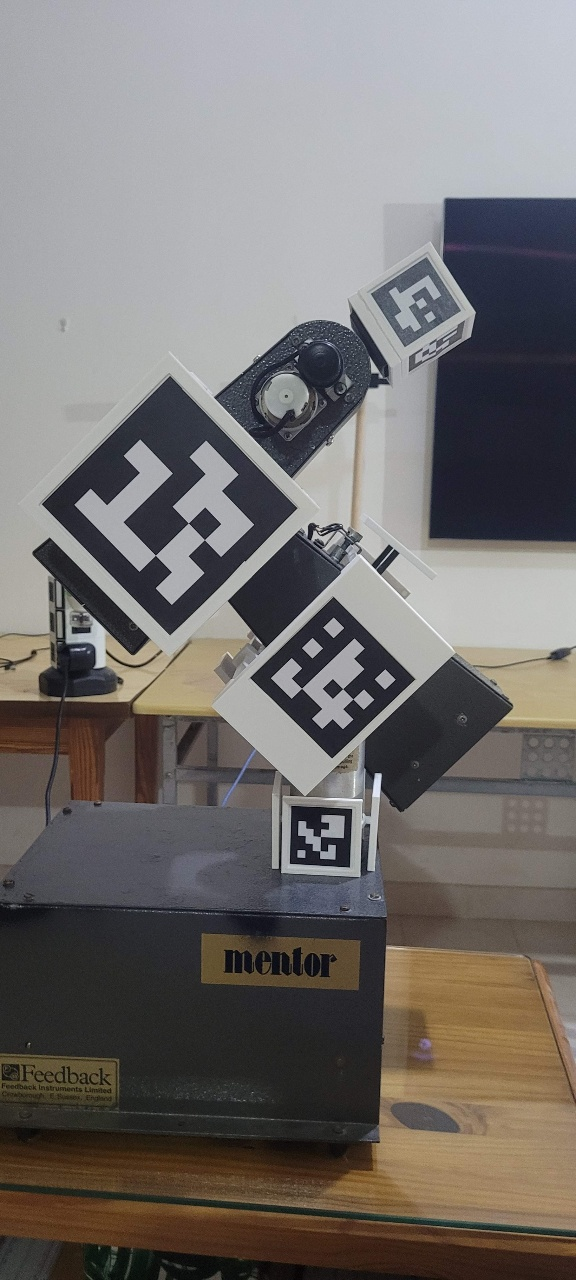Robot: (19, 239, 517, 879)
